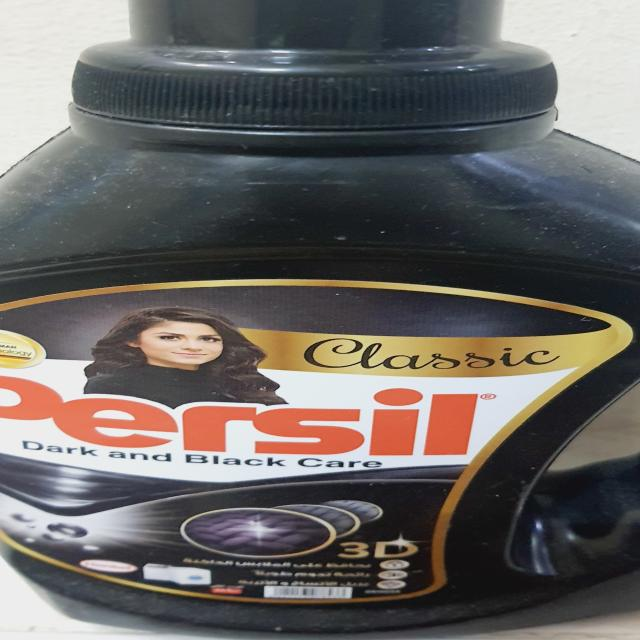plastic: (0, 0, 640, 640)
